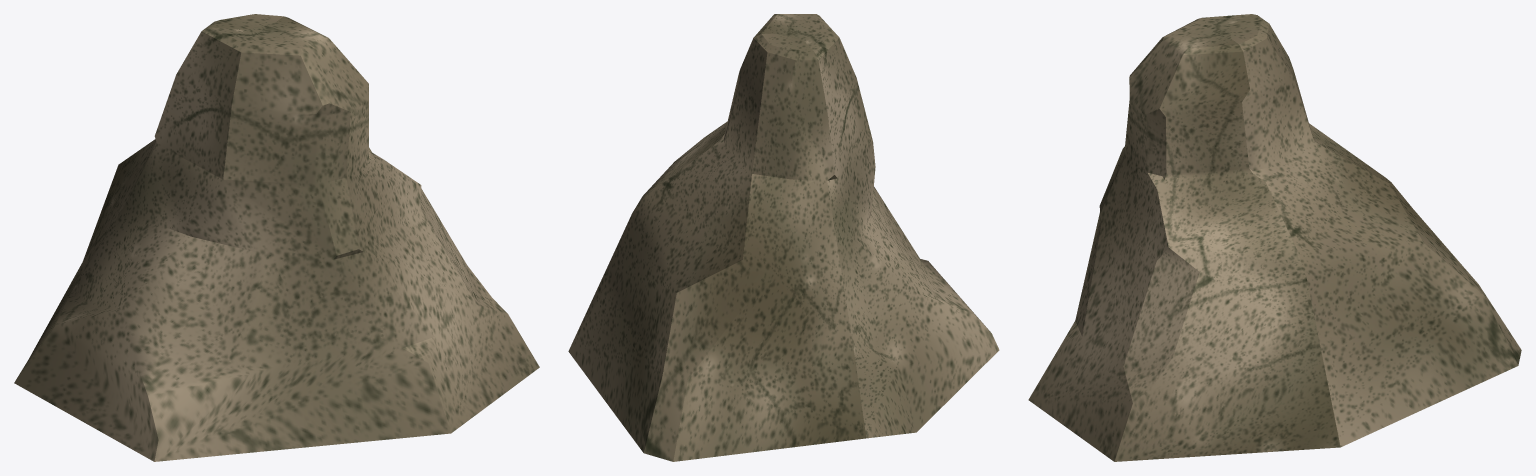
File: Rock1.fbx
3 views of the same model, side by side, from view 1: azimuth 30°, elevation 25°; view 2: azimuth 150°, elevation 25°; view 3: azimuth 270°, elevation 25° (orthographic). The views are drawn at different scales.
Parts seen in each view (by area): view 1: pCylinder5; view 2: pCylinder5; view 3: pCylinder5.
Part boxes in pixels (x1,y1,x2,y2): pCylinder5: (14,14,539,461); pCylinder5: (568,14,999,461); pCylinder5: (1028,14,1521,461).
Bounding box in the file's own units: 522 × 444 × 575.
